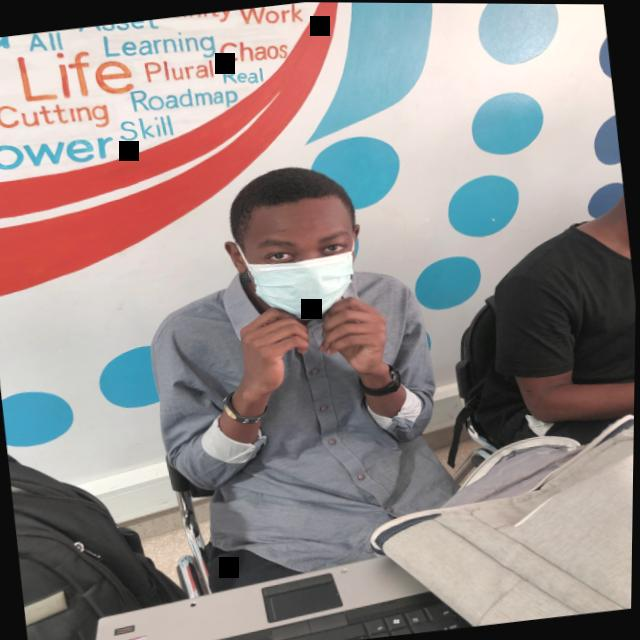Mask: (233, 191, 364, 327)
